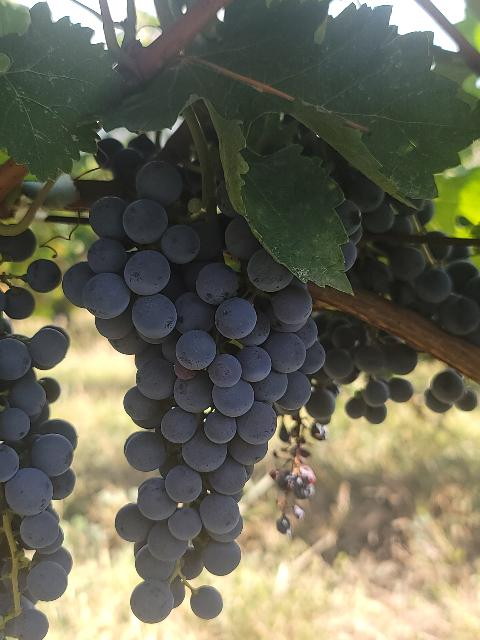grapes: (64, 159, 321, 622), (0, 259, 78, 640)
